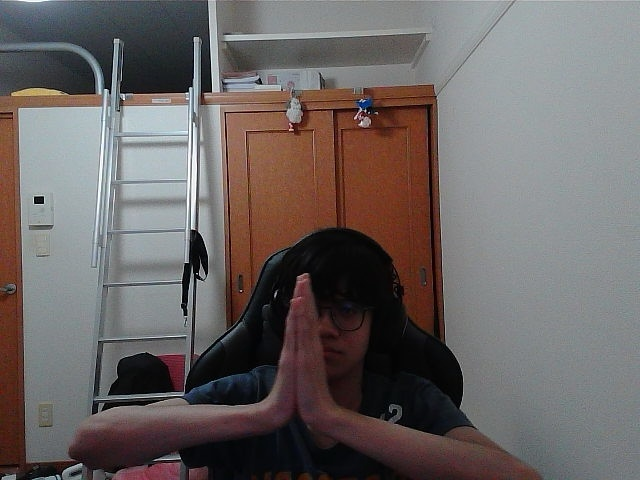pray: (295, 283, 317, 401)
